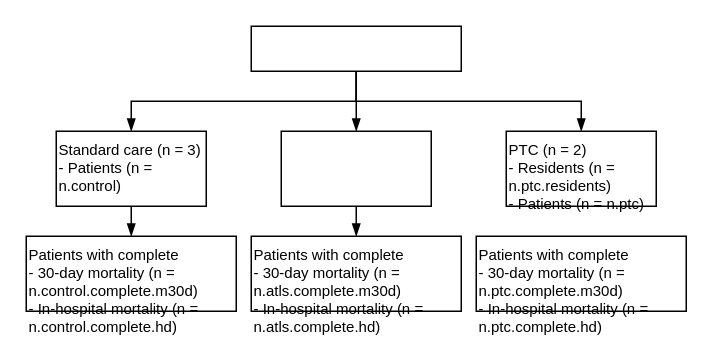
This 713x363 diagram has some shape labels left out. The shapes that lost their labels are listed below. From the top down, each one's centre as x and y in pixels, then its label:
(355,48): Hospitals randomised (n = 7)
(355,168): ATLS (n = 2) - Residents (n = n.atls.residents) - Patients (n = n.atls)
